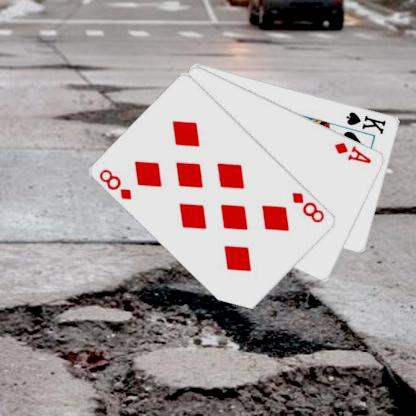8D: (97, 166, 133, 202), (289, 190, 327, 224)
AD: (332, 139, 373, 165)
KS: (344, 109, 388, 135)
